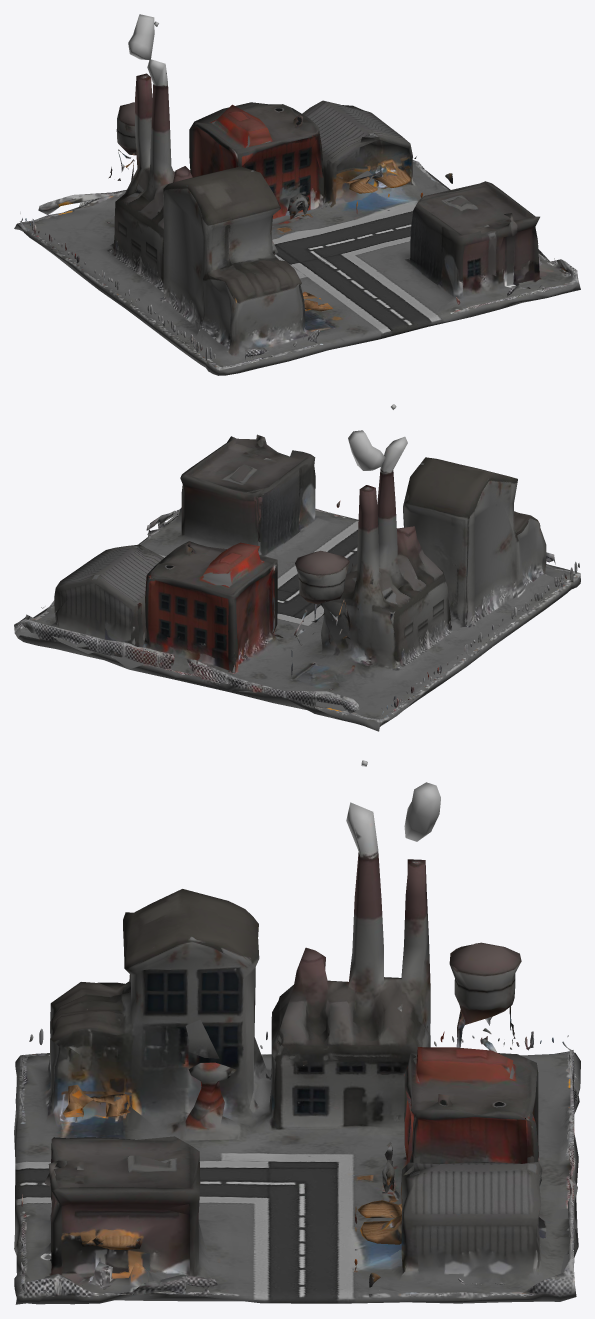
The model's file is BackgroundLandscape.fbx.
3 views of the same model, one above another, from view 1: azimuth 30°, elevation 25°; view 2: azimuth 150°, elevation 25°; view 3: azimuth 270°, elevation 25° (orthographic). The views are drawn at different scales.
Visible parts, largest first — view 1: tripo_node_98634ece; view 2: tripo_node_98634ece; view 3: tripo_node_98634ece.
Boxes of the visible parts, x1,y1,x2,y2 form: tripo_node_98634ece: [14, 14, 580, 375]; tripo_node_98634ece: [14, 404, 580, 731]; tripo_node_98634ece: [14, 760, 580, 1304].
Bounding box in the file's own units: 2665 × 1736 × 2593.
1 material, 1 textured.
